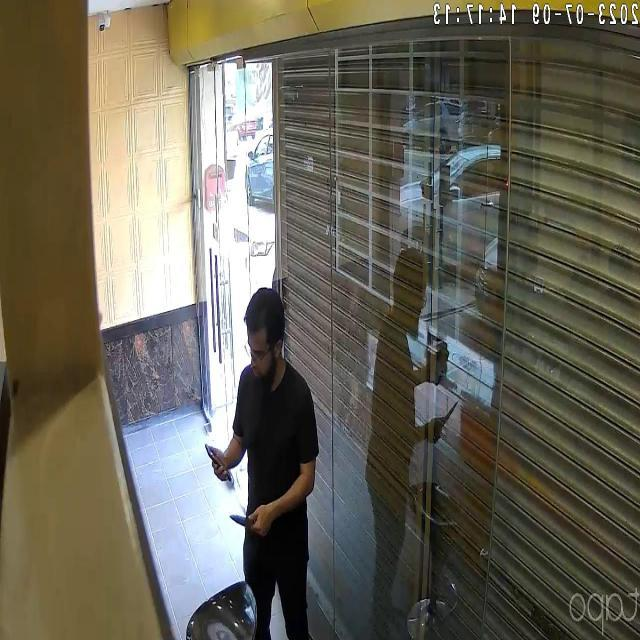Knife: (224, 502, 266, 546)
